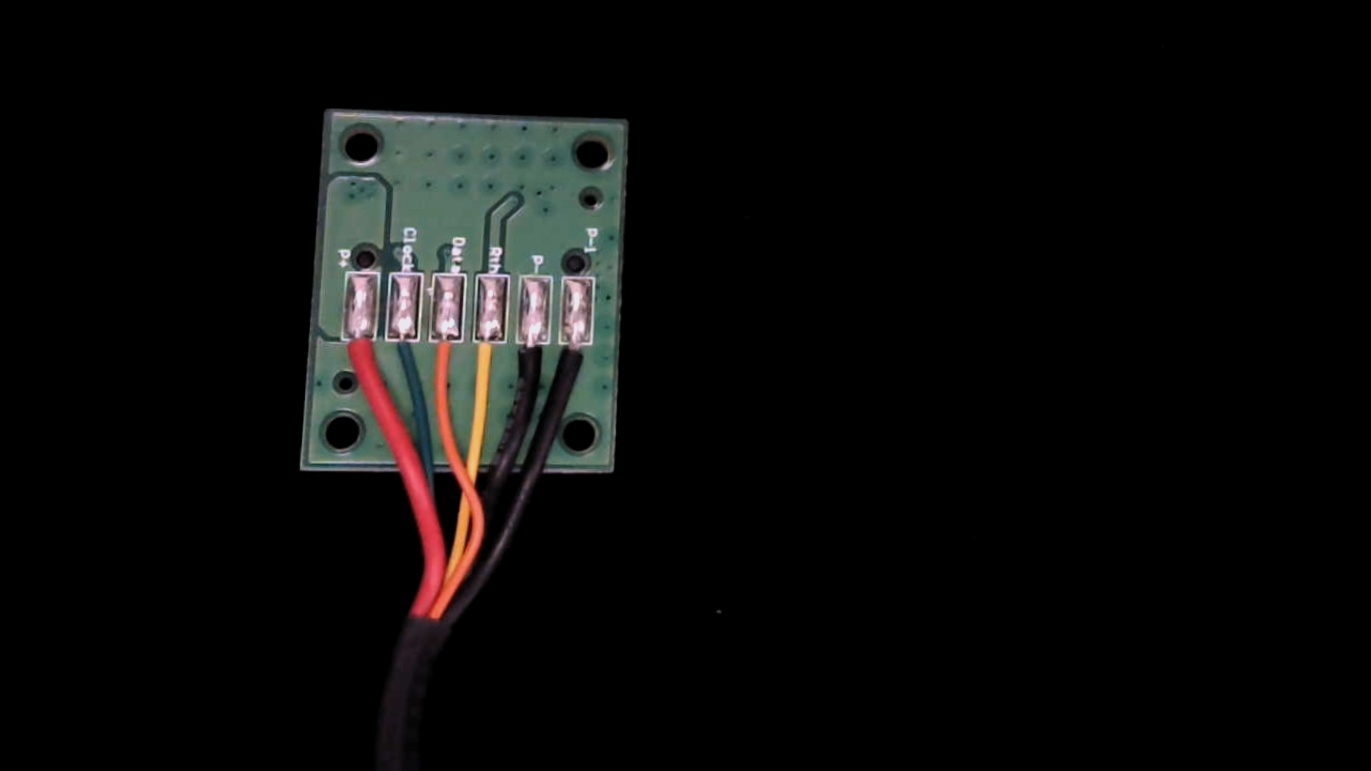Black: (512, 321, 550, 395)
Black1: (555, 323, 594, 401)
Green: (385, 320, 423, 392)
Orange: (425, 320, 462, 396)
Red: (341, 320, 379, 393)
Yellow: (472, 320, 504, 390)
